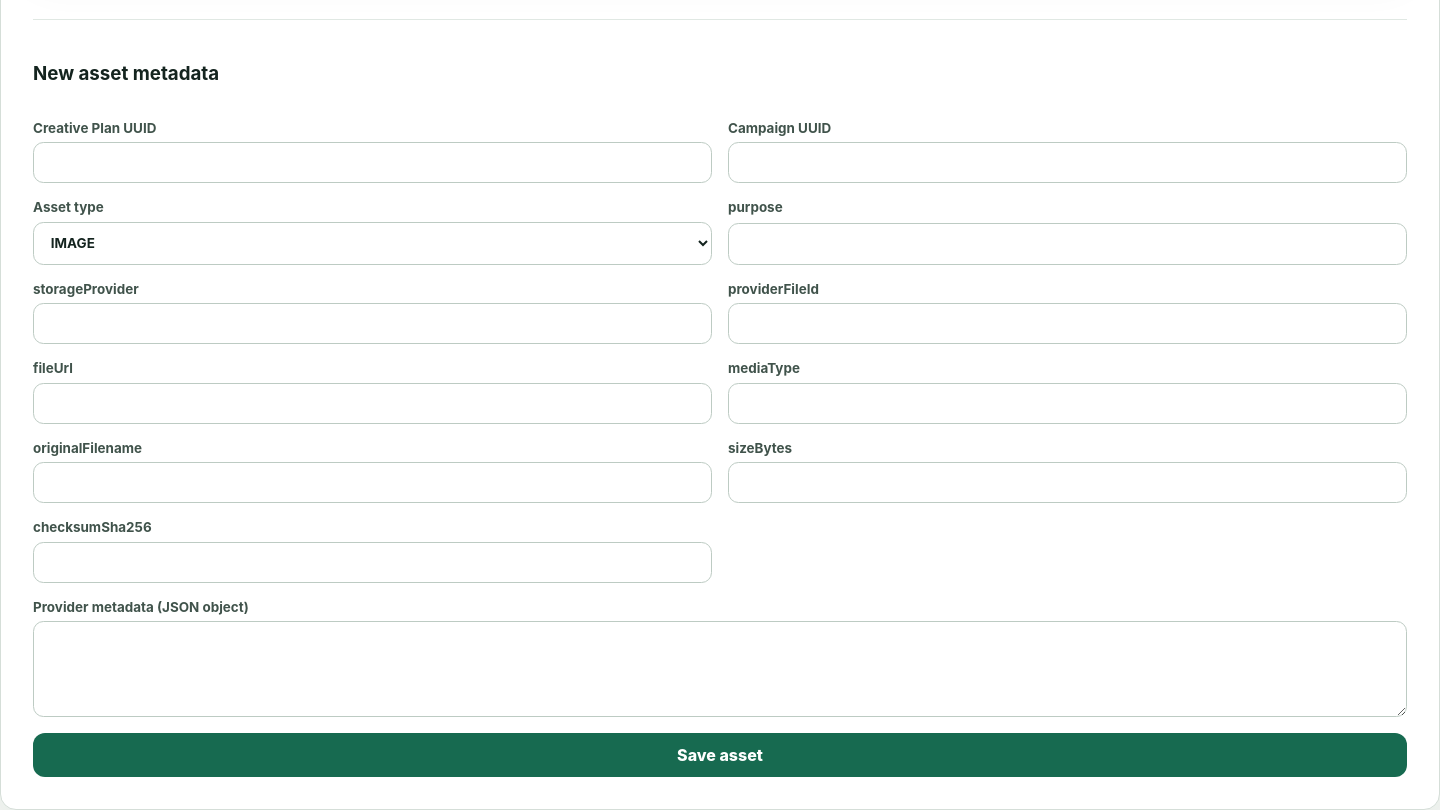
AssetsTab › shows clear recovery for status 409
(page scrolled)
Click the button "Save asset": (720, 755) [33,733,1407,777]
(page scrolled)
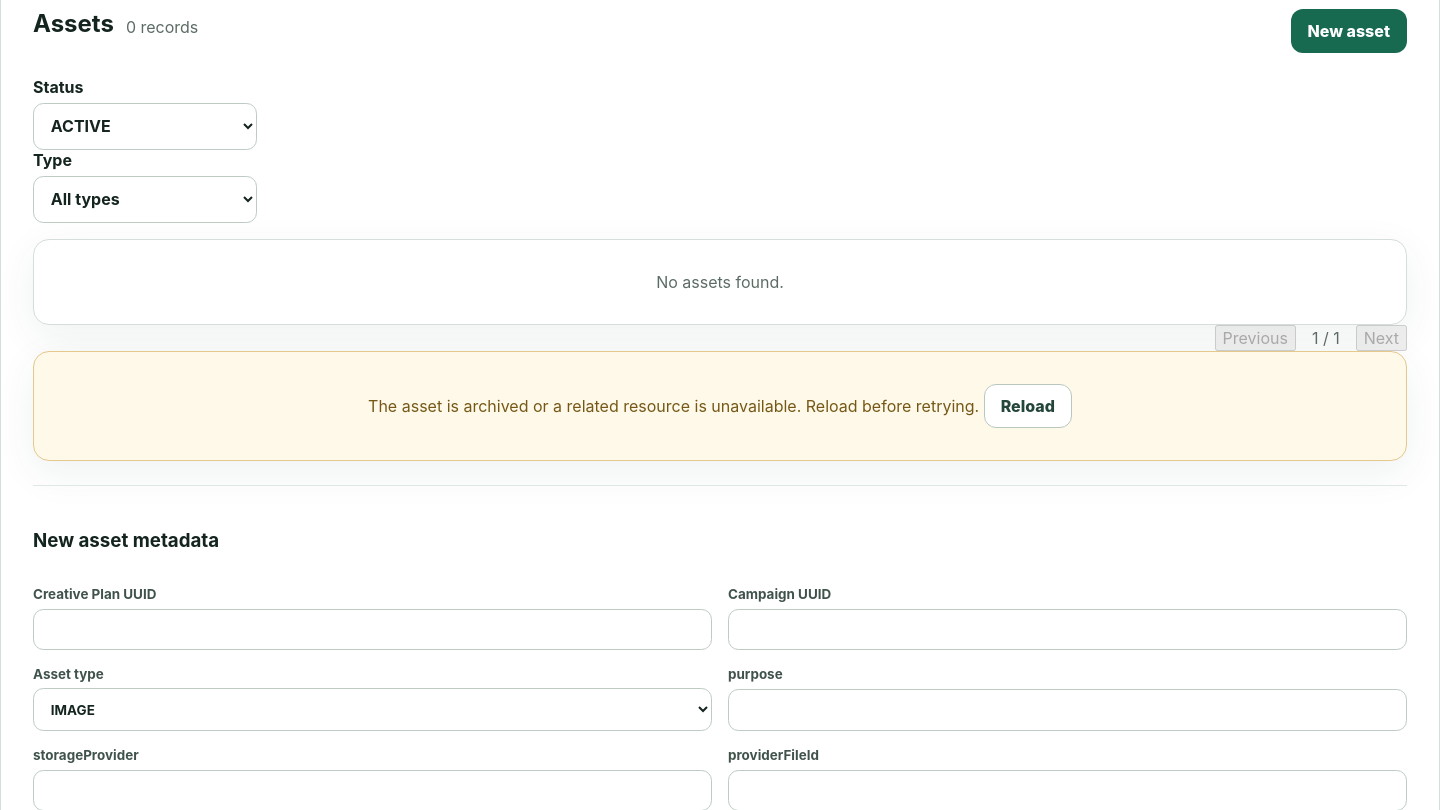
Result: the message shows "archived" at [368,396,801,416]
Result: the button "Reload" is shown at [984,384,1072,428]
